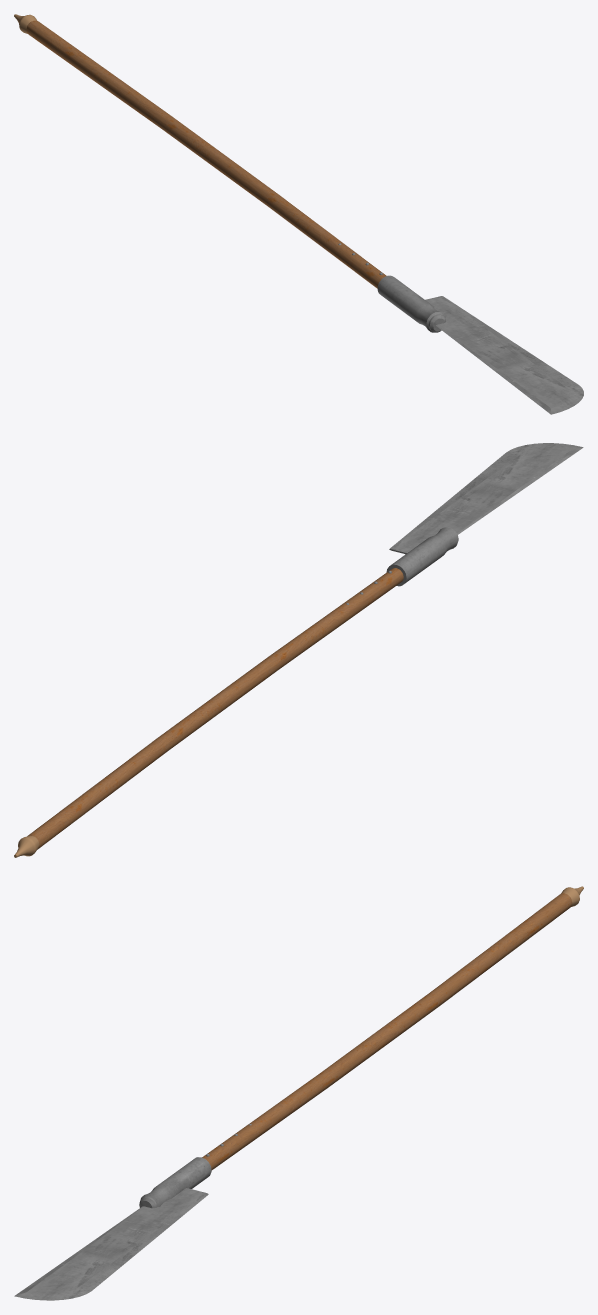
The model's file is Glaive.fbx.
3 views of the same model, one above another, from view 1: azimuth 30°, elevation 25°; view 2: azimuth 150°, elevation 25°; view 3: azimuth 330°, elevation 25° (orthographic). The views are drawn at different scales.
Parts seen in each view (by area): view 1: Sphere.004; view 2: Sphere.004; view 3: Sphere.004.
Boxes of the visible parts, x1,y1,x2,y2 form: Sphere.004: [14, 14, 583, 414]; Sphere.004: [14, 443, 583, 857]; Sphere.004: [14, 886, 583, 1300].
Size of the model in its own units: 11.25 by 4.19 by 201.
